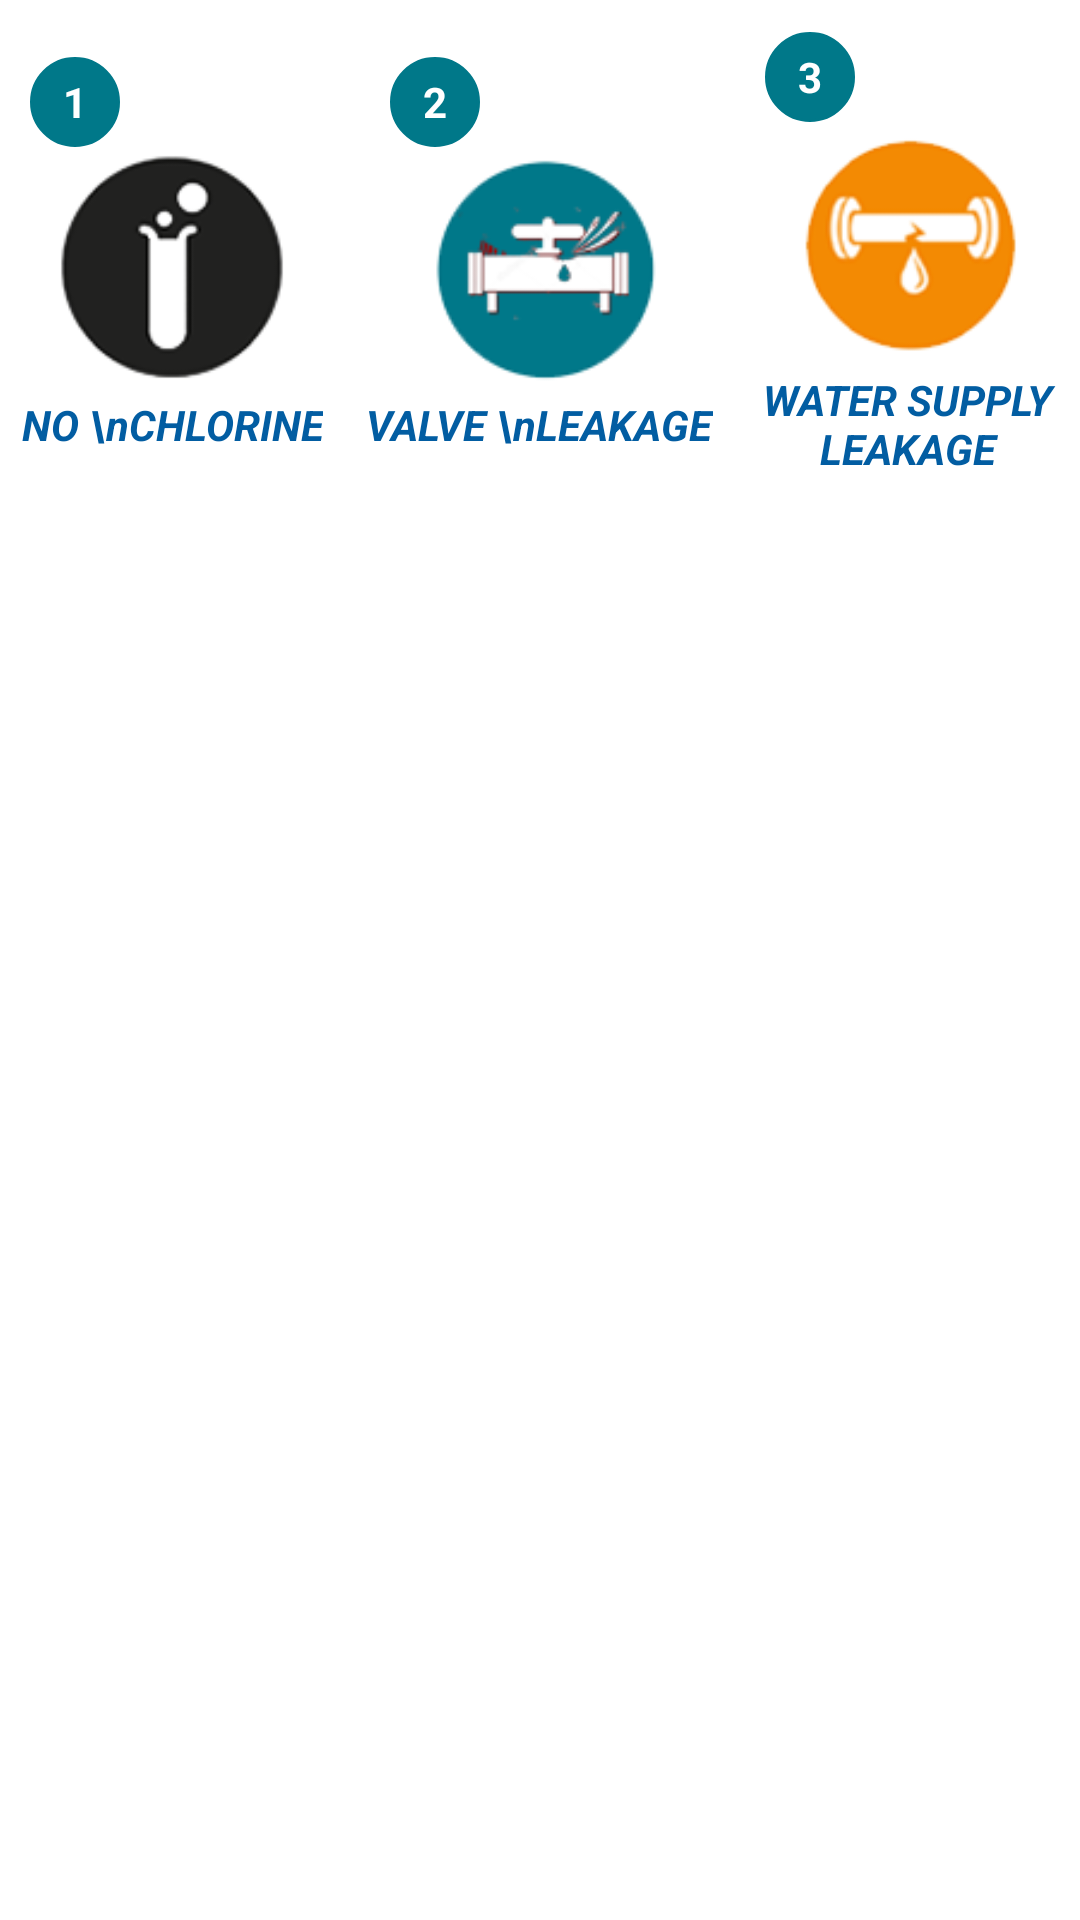

Icon click points for this 1080×1920 phone screenshot, format (x=x, y=y):
pipe leakage: (x=910, y=245)
